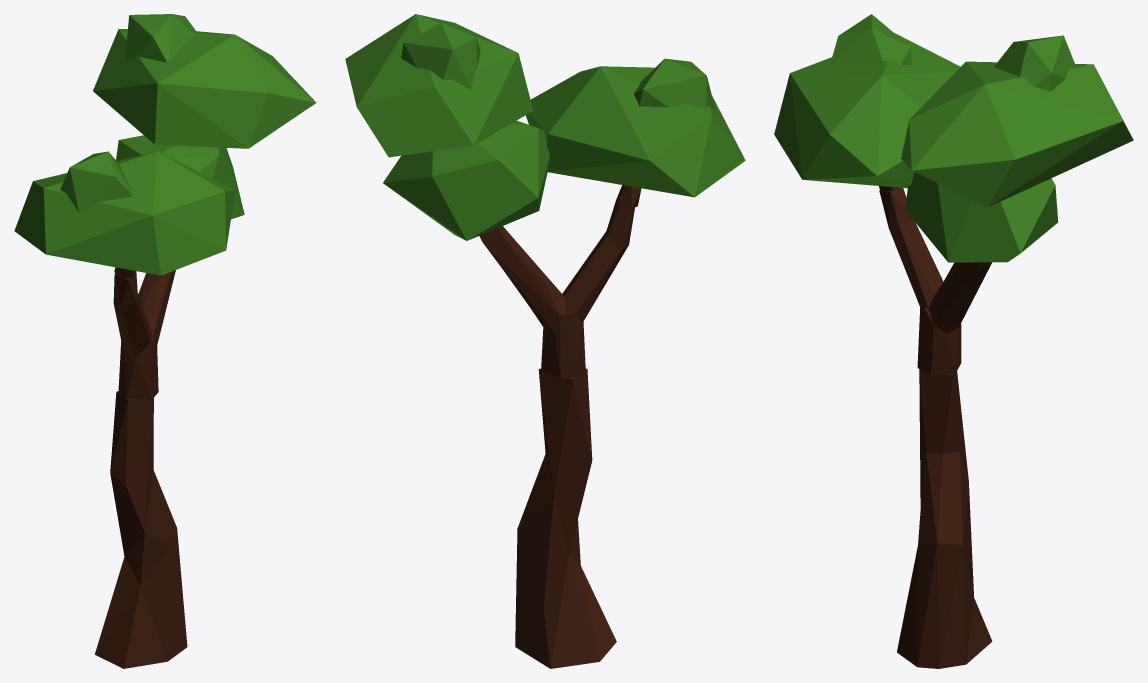
The model's file is GR_Tree_Slim_LOD2.fbx.
3 renders of one model, left to right at view 1: azimuth 30°, elevation 25°; view 2: azimuth 150°, elevation 25°; view 3: azimuth 270°, elevation 25°, orthographic. The views are drawn at different scales.
Visible parts, largest first — view 1: GR_Tree_Slim_LOD2; view 2: GR_Tree_Slim_LOD2; view 3: GR_Tree_Slim_LOD2.
Part boxes in pixels (x1=…): GR_Tree_Slim_LOD2: x1=14, y1=14, x2=316, y2=668; GR_Tree_Slim_LOD2: x1=345, y1=14, x2=745, y2=668; GR_Tree_Slim_LOD2: x1=774, y1=14, x2=1133, y2=668.
Size of the model in its own units: 2.43 by 4.57 by 2.32.
2 materials, 2 textured.
